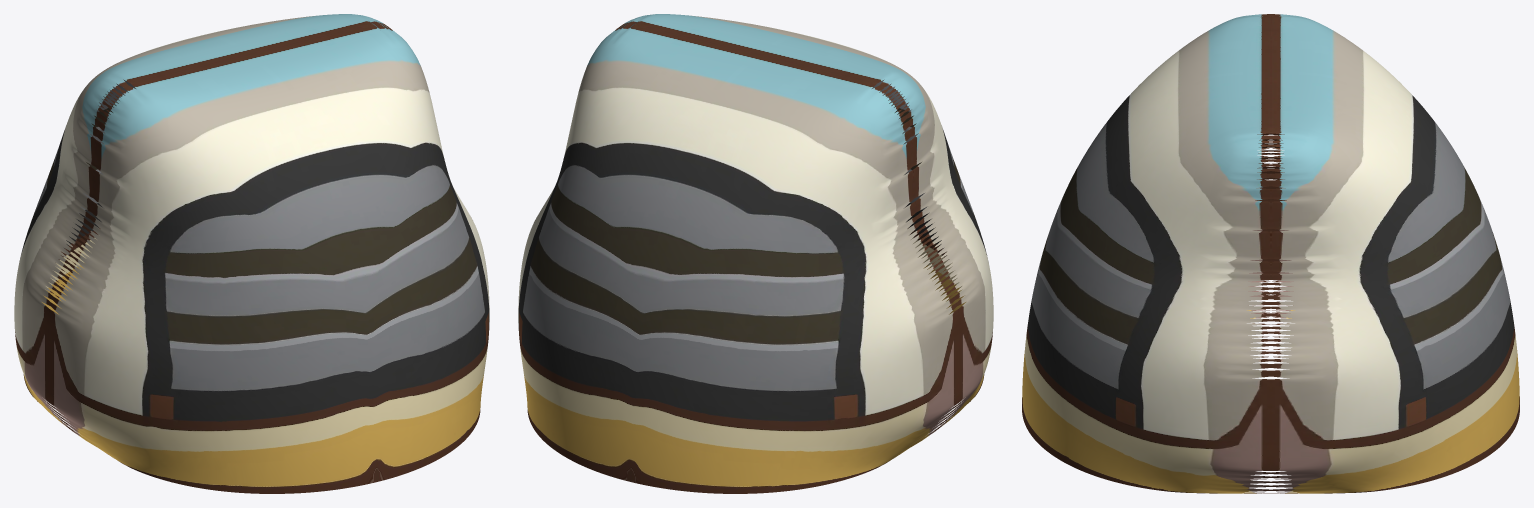
File: wall_intake.glb
3 renders of one model, left to right at view 1: azimuth 30°, elevation 25°; view 2: azimuth 150°, elevation 25°; view 3: azimuth 270°, elevation 25°, orthographic.
Visible parts, largest first — view 1: wall_intake; view 2: wall_intake; view 3: wall_intake.
Part boxes in pixels (bbox=[...]): wall_intake: bbox=[14, 14, 489, 493]; wall_intake: bbox=[518, 14, 993, 493]; wall_intake: bbox=[1022, 14, 1519, 493].
Size of the model in its own units: 0.989 by 0.7853 by 1.06.
Materials: 1 (1 with a texture image).
